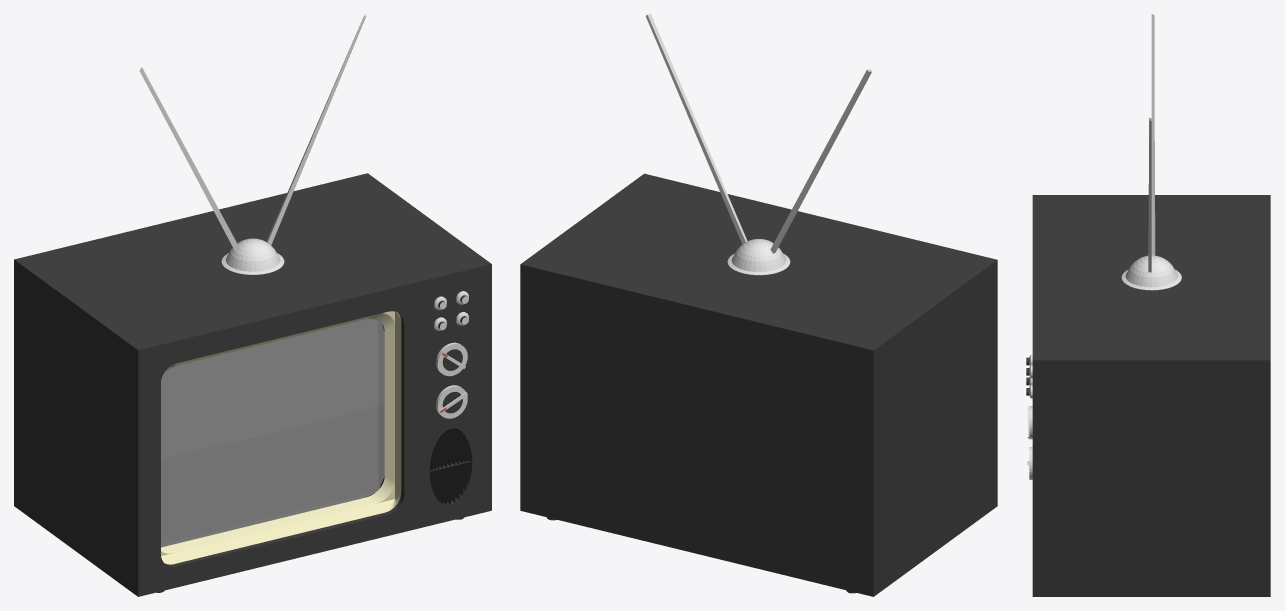
3 renders of one model, left to right at view 1: azimuth 30°, elevation 25°; view 2: azimuth 150°, elevation 25°; view 3: azimuth 270°, elevation 25°, orthographic. The views are drawn at different scales.
Visible parts, largest first — view 1: Cylinder.001; view 2: Cylinder.001; view 3: Cylinder.001.
Boxes of the visible parts, bbox=[...] form: Cylinder.001: bbox=[14, 14, 491, 596]; Cylinder.001: bbox=[520, 14, 997, 596]; Cylinder.001: bbox=[1026, 14, 1270, 596].
Size of the model in its own units: 329 by 421 by 206.
